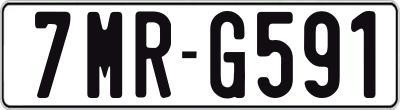1: (351, 11, 380, 103)
5: (255, 11, 295, 100)
7: (35, 11, 75, 97)
9: (302, 11, 342, 102)
G: (209, 8, 247, 96)
M: (85, 9, 124, 96)
R: (135, 8, 172, 101)
